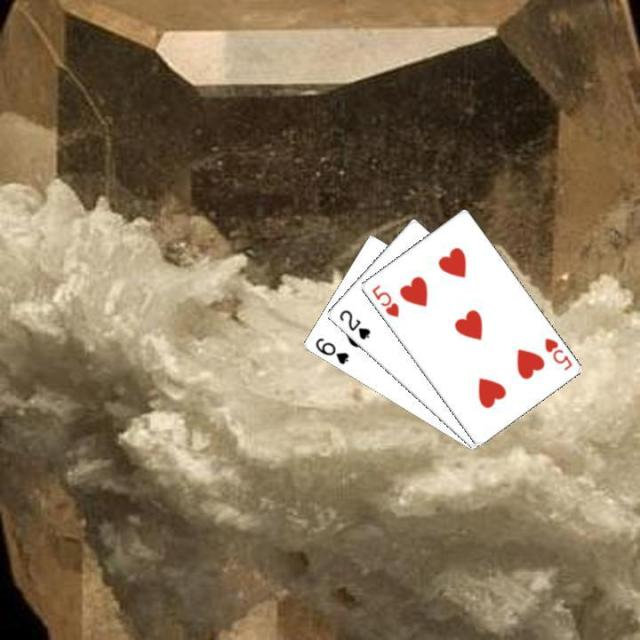2S: (335, 306, 373, 341)
5H: (367, 281, 401, 319), (540, 334, 574, 372)
6S: (311, 334, 350, 366)
